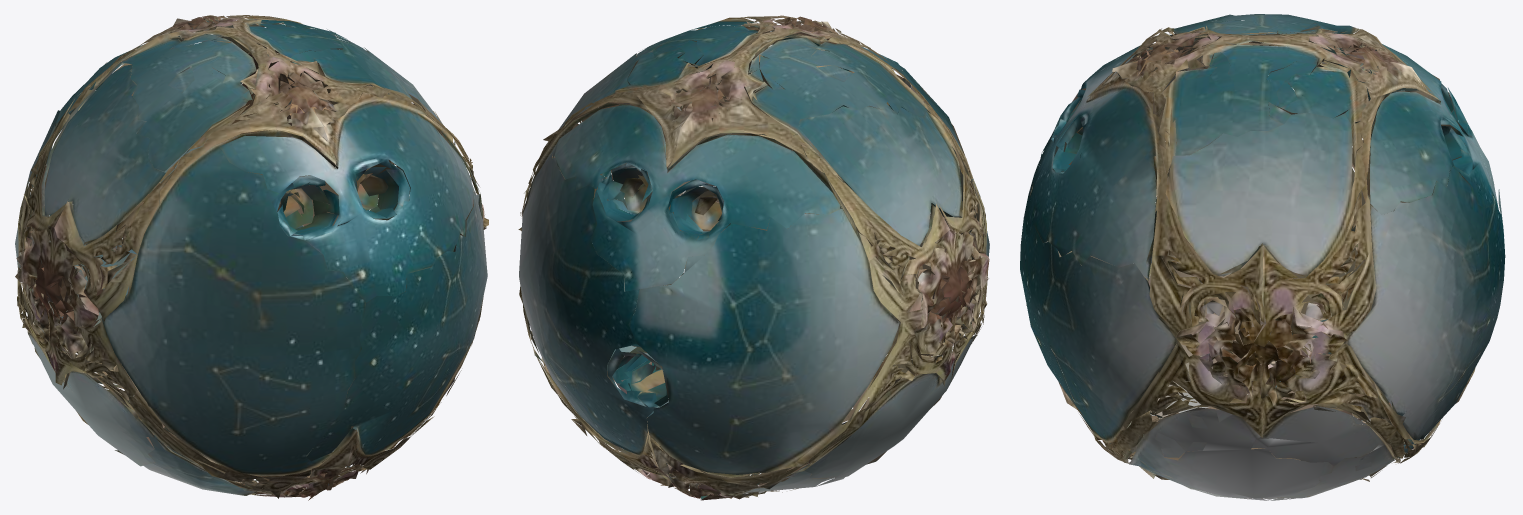
File: bowling-ball.glb
3 renders of one model, left to right at view 1: azimuth 30°, elevation 25°; view 2: azimuth 150°, elevation 25°; view 3: azimuth 270°, elevation 25°, orthographic. The views are drawn at different scales.
Visible parts, largest first — view 1: geometry_0; view 2: geometry_0; view 3: geometry_0.
Part boxes in pixels (box(x1,y1,x2,y2)): geometry_0: box(15, 15, 488, 500); geometry_0: box(518, 15, 989, 500); geometry_0: box(1020, 14, 1505, 500).
Size of the model in its own units: 0.2208 by 0.2186 by 0.2183.
1 material, 1 textured.
